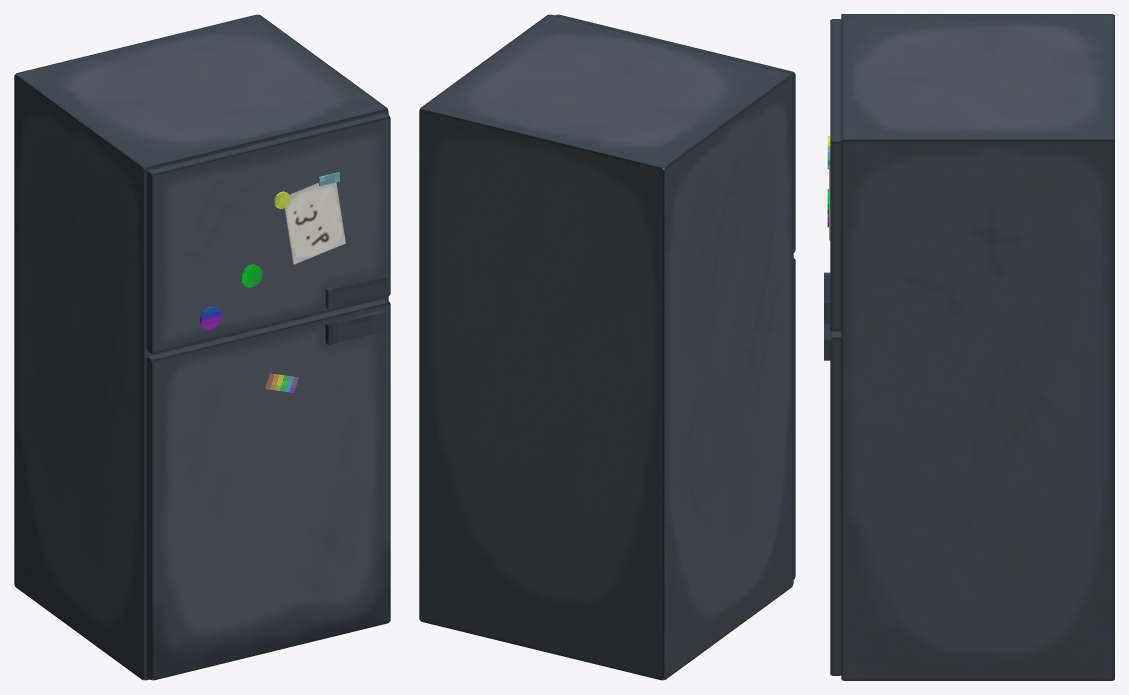
Rendered from Fridge.fbx.
3 renders of one model, left to right at view 1: azimuth 30°, elevation 25°; view 2: azimuth 150°, elevation 25°; view 3: azimuth 270°, elevation 25°, orthographic. The views are drawn at different scales.
Parts seen in each view (by area): view 1: mesh_7, mesh_1, mesh, mesh_5, mesh_3, mesh_2; view 2: mesh_7, mesh, mesh_1; view 3: mesh_7, mesh_1, mesh.
Part boxes in pixels (x1,y1,x2,y2): mesh_7: [14, 14, 388, 680]; mesh_1: [146, 299, 390, 680]; mesh: [146, 113, 390, 353]; mesh_5: [284, 182, 345, 264]; mesh_3: [325, 274, 387, 309]; mesh_2: [325, 309, 387, 344]; mesh_7: [419, 14, 793, 680]; mesh: [555, 14, 795, 252]; mesh_1: [793, 258, 795, 579]; mesh_7: [841, 14, 1114, 680]; mesh_1: [830, 330, 841, 675]; mesh: [830, 19, 842, 331].
Bounding box in the file's own units: 150 × 300 × 146.
3 materials, 3 textured.
